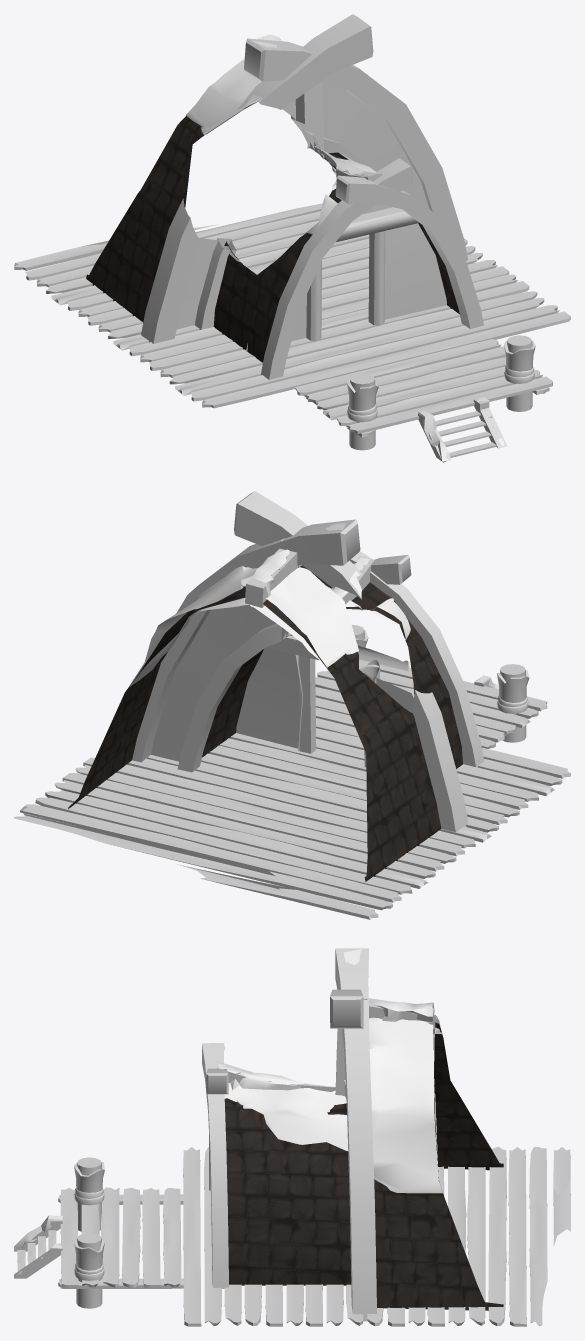
Rendered from PropHouse2.fbx.
3 renders of one model, top to bottom at view 1: azimuth 30°, elevation 25°; view 2: azimuth 150°, elevation 25°; view 3: azimuth 270°, elevation 25°, orthographic. The views are drawn at different scales.
Parts seen in each view (by area): view 1: Plane.001; view 2: Plane.001; view 3: Plane.001.
Boxes of the visible parts, x1,y1,x2,y2 form: Plane.001: (14,14,570,462); Plane.001: (14,491,570,919); Plane.001: (14,948,570,1326).
Bounding box in the file's own units: 2551 × 1971 × 3382.
